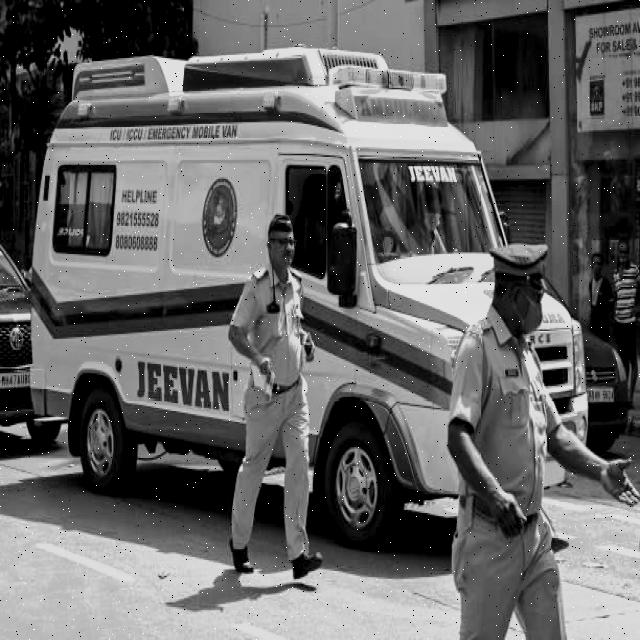Ambulance: (57, 162, 177, 285), (122, 348, 235, 430), (110, 114, 252, 150), (353, 95, 449, 132), (402, 158, 466, 195)
